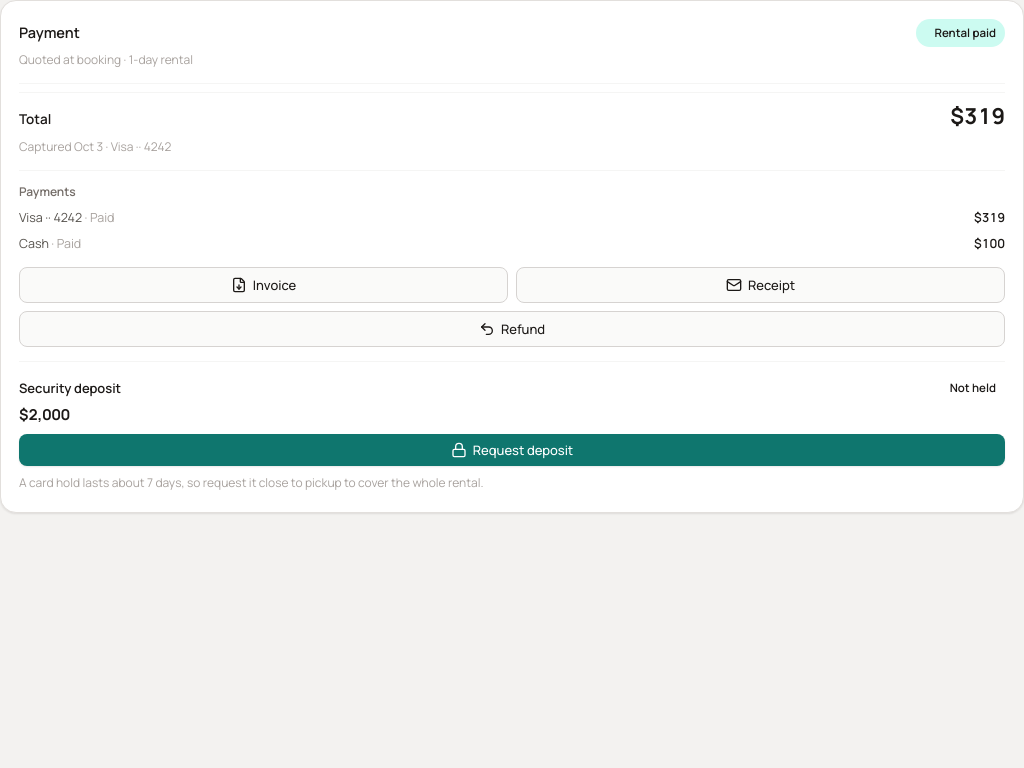
Test: BookingPaymentSection › keeps a typed refund amount when another payment is picked
Click the button "Refund": (512, 329) [19,311,1005,347]
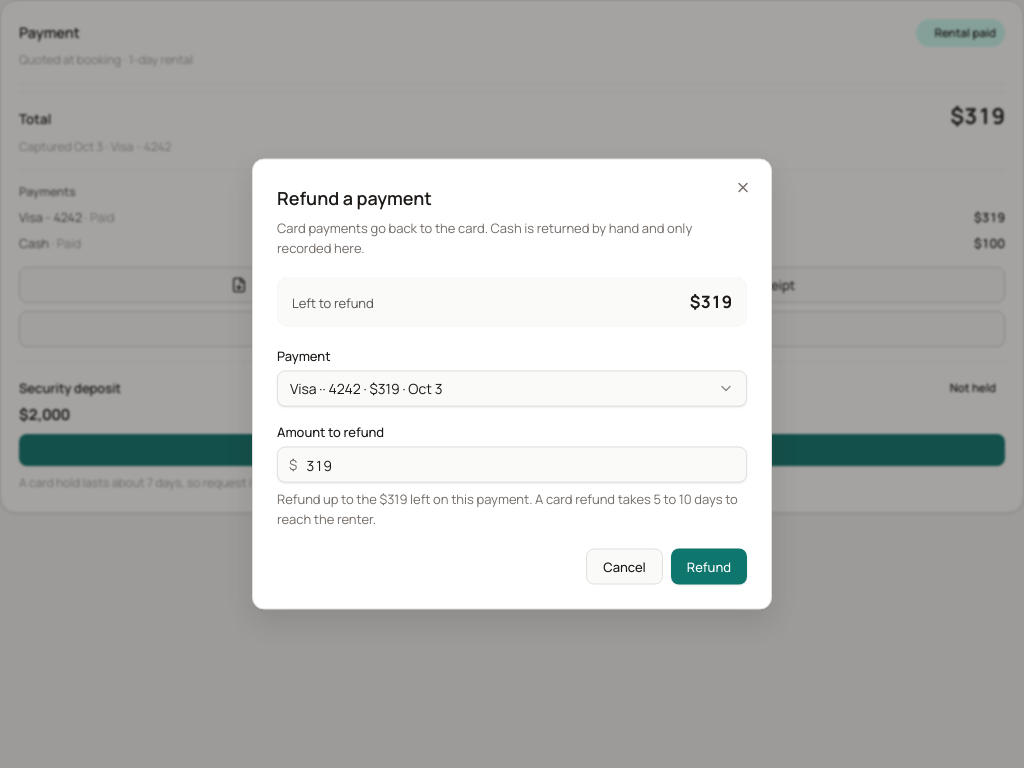
Check: the number field labelled "Amount to refund" holds "319"
Replace the text in the number field labelled "Amount to refund" with "50": (512, 464) [277,446,747,482]
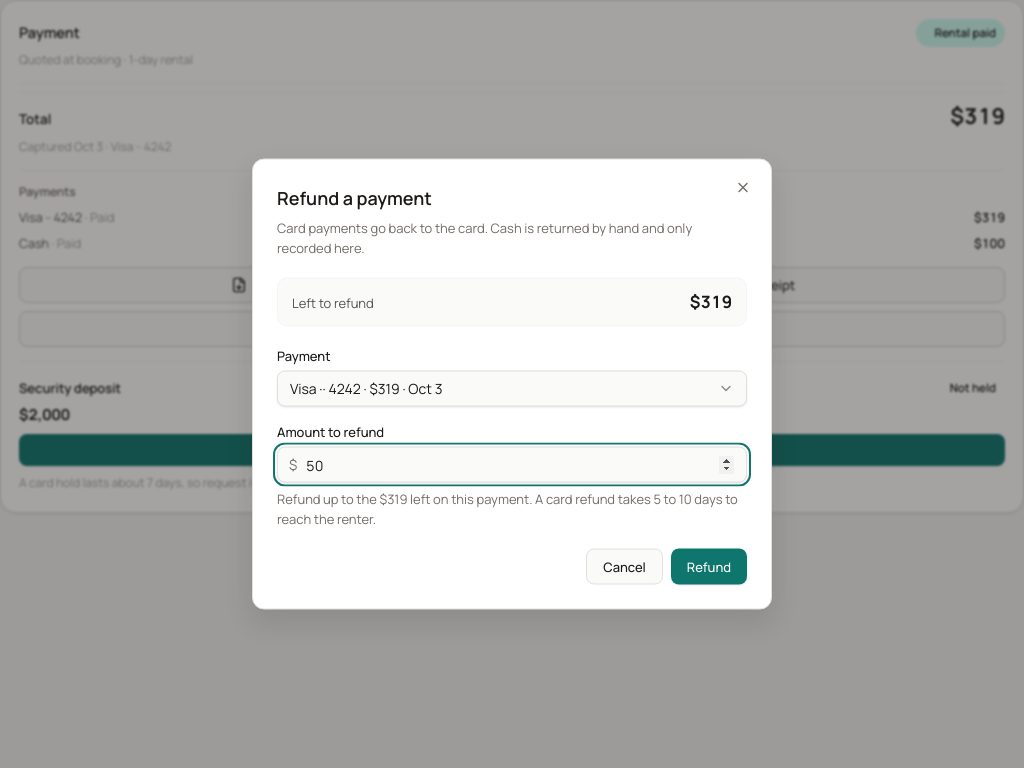
Click the dropdown: (366, 388) [277,370,747,406]
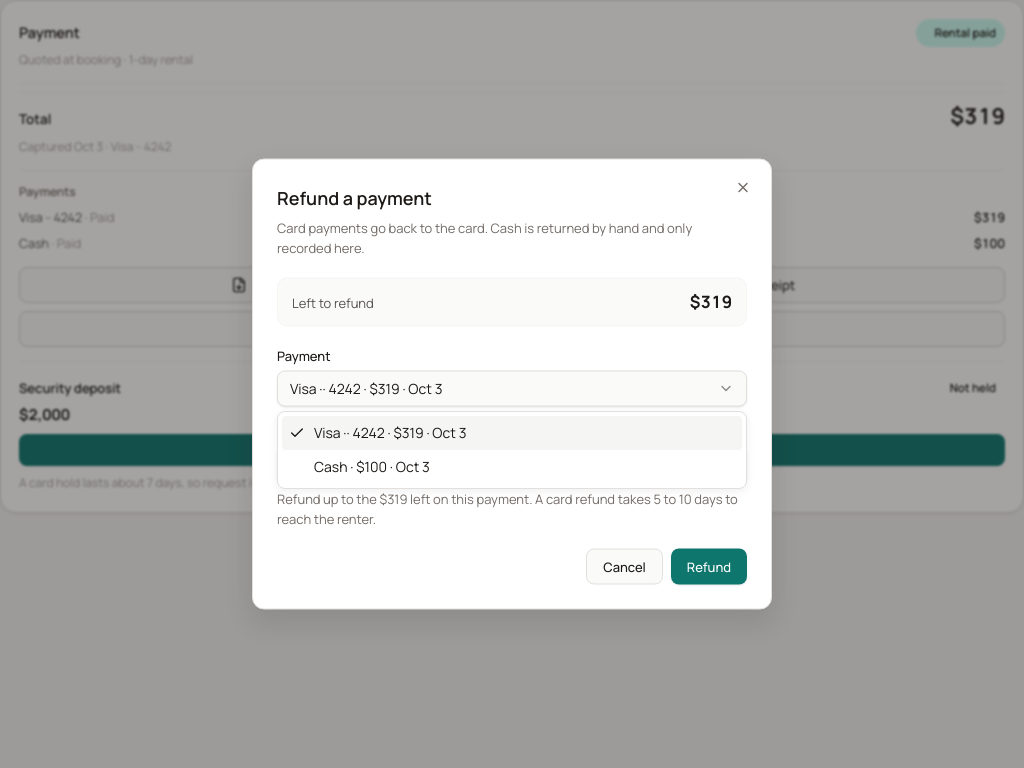
Click the option "Cash · $100 · Oct 3": (372, 466) [314,457,430,476]
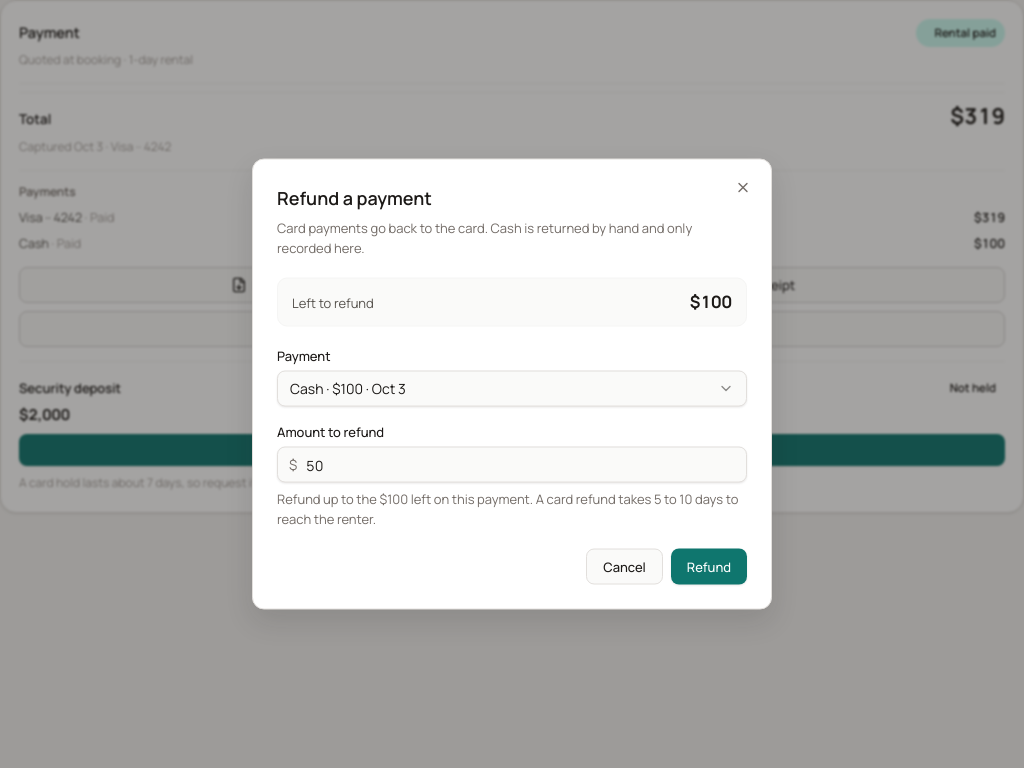
Check: the text "$100" is shown, box [690,290,732,312]
